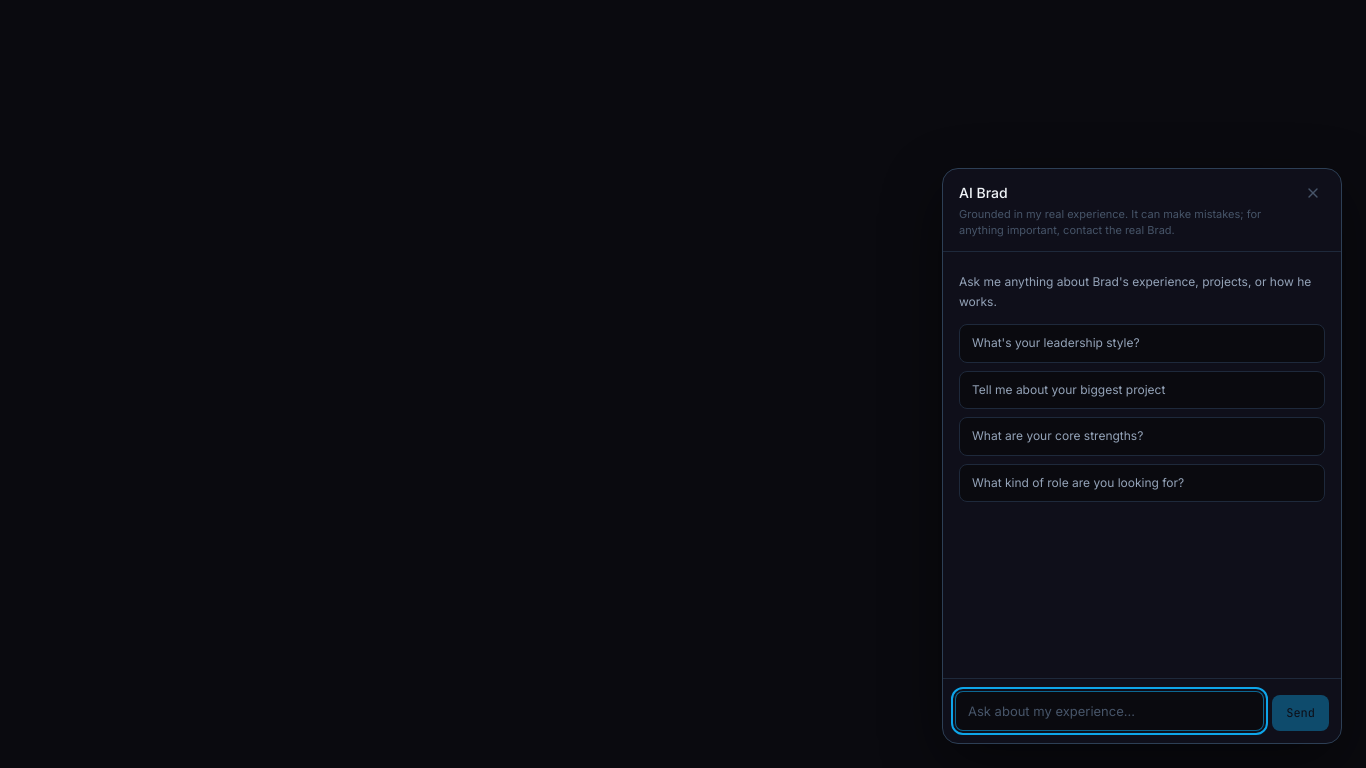
ChatPanel › shows the daily cap message when the server reports it
Click the button "What's your leadership style?". click: (1142, 344)
box: [959,324,1325,363]
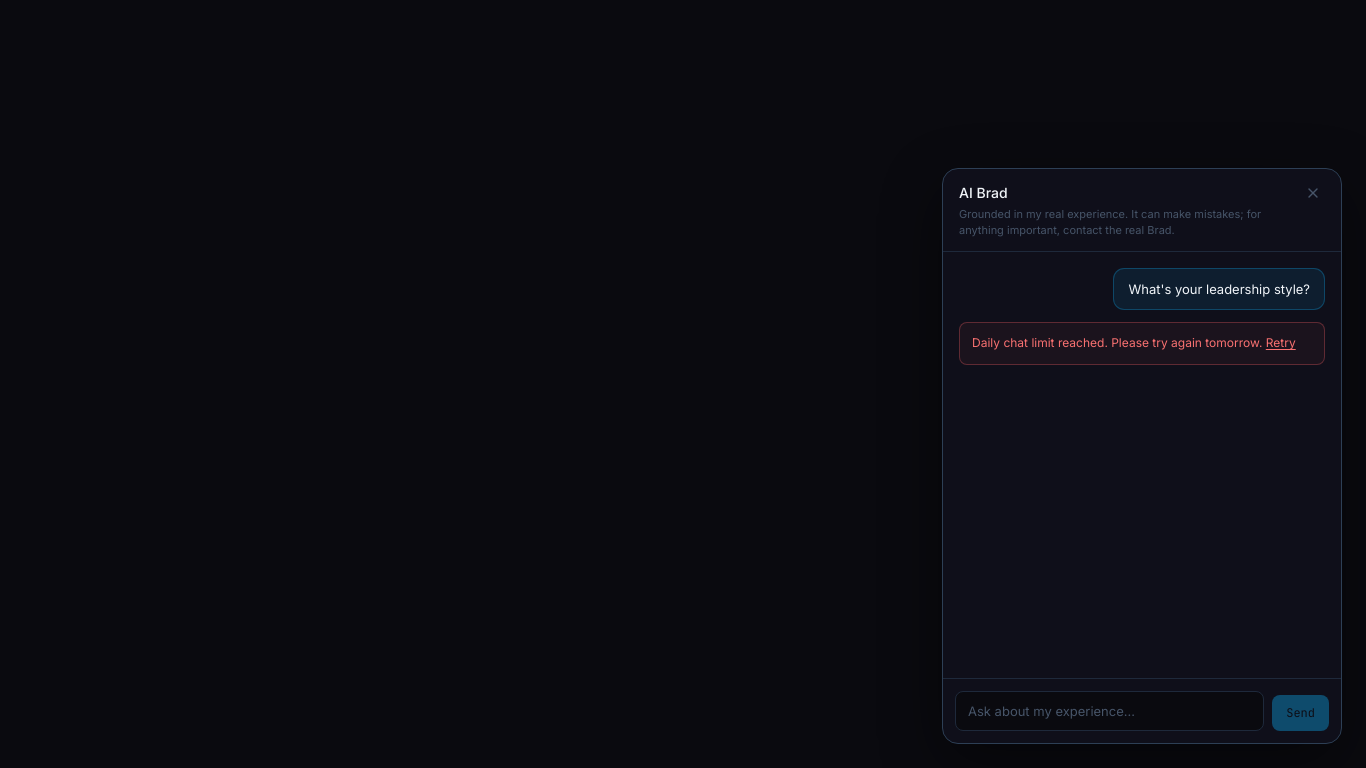
Now the text "Daily chat limit reached. Please try again tomorrow." is shown, box [972,336,1262,350]
